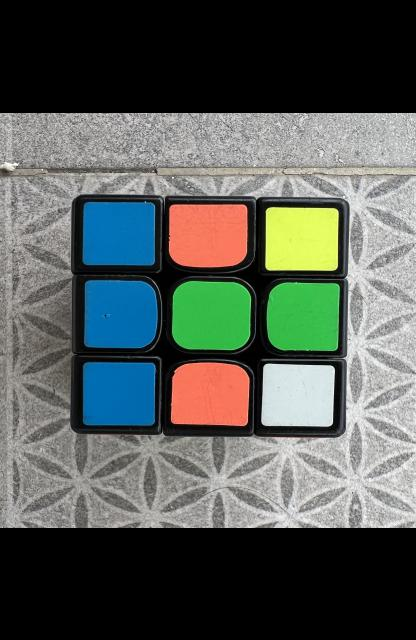Blue: (84, 279, 158, 347), (83, 361, 156, 425), (83, 201, 156, 265)
Green: (172, 280, 252, 349), (267, 281, 339, 350)
Orange: (170, 361, 249, 425), (169, 203, 248, 267)
White: (262, 362, 336, 426)
Yellow: (266, 206, 339, 270)
